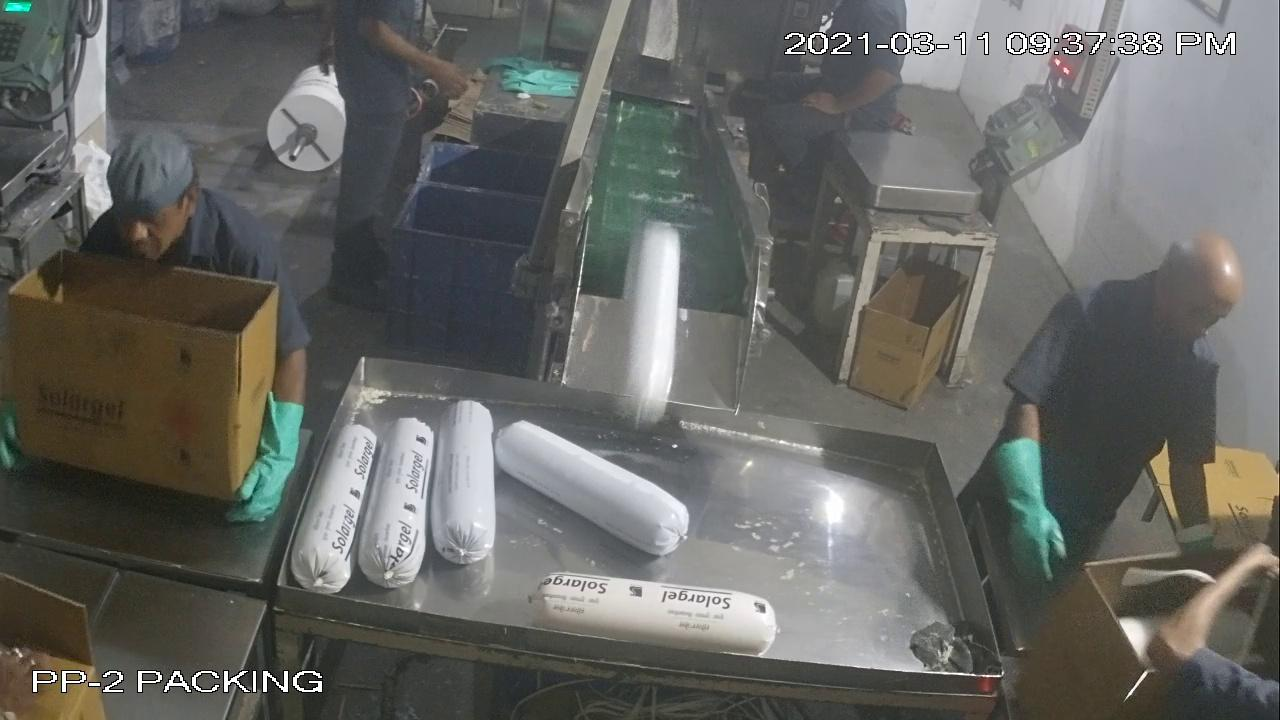No-gloves: (1145, 523, 1280, 684), (336, 6, 484, 108), (804, 66, 912, 129)
